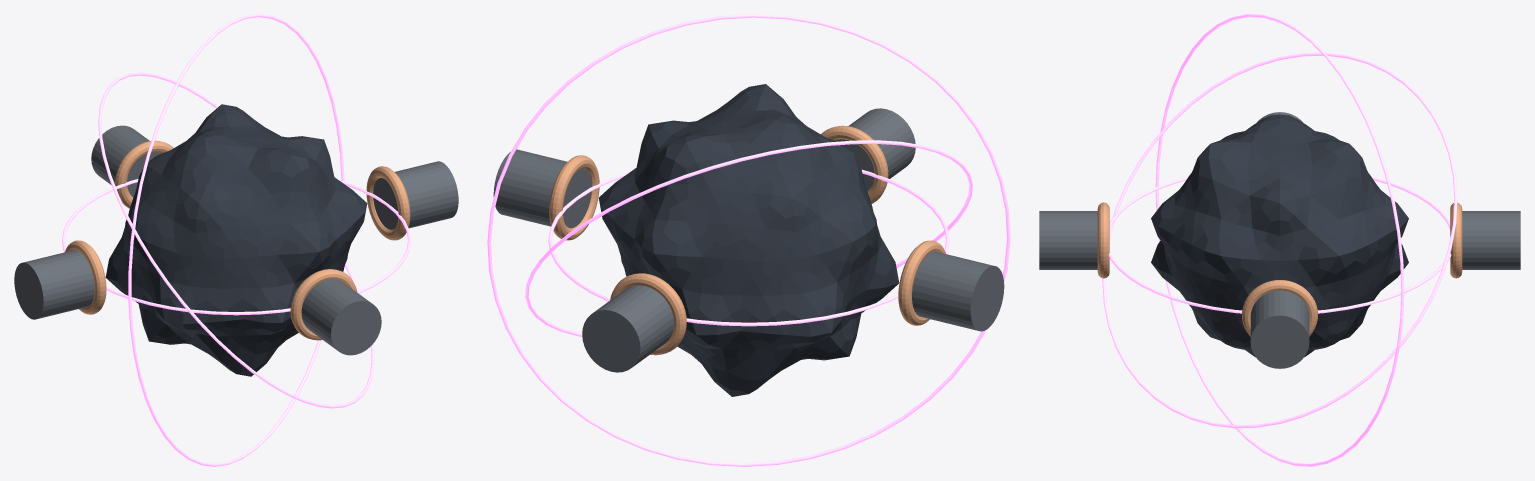
Rendered from project_ferrofluid_orb.glb.
3 renders of one model, left to right at view 1: azimuth 30°, elevation 25°; view 2: azimuth 150°, elevation 25°; view 3: azimuth 270°, elevation 25°, orthographic. The views are drawn at different scales.
Visible parts, largest first — view 1: Ferrofluid_Orb, Magnetic_Pole_3, Magnetic_Pole_4, Magnetic_Pole_1, Magnetic_Field_Ring_3, Magnetic_Field_Ring_2, Magnetic_Pole_2, Magnetic_Field_Ring_1, Copper_Coil_1, Copper_Coil_4, Copper_Coil_3, Copper_Coil_2; view 2: Ferrofluid_Orb, Magnetic_Field_Ring_3, Magnetic_Pole_3, Magnetic_Pole_2, Magnetic_Pole_1, Magnetic_Field_Ring_2, Magnetic_Pole_4, Magnetic_Field_Ring_1, Copper_Coil_1, Copper_Coil_2, Copper_Coil_3, Copper_Coil_4; view 3: Ferrofluid_Orb, Magnetic_Field_Ring_2, Magnetic_Pole_1, Magnetic_Field_Ring_3, Magnetic_Pole_2, Magnetic_Pole_4, Magnetic_Field_Ring_1, Copper_Coil_1, Copper_Coil_4, Copper_Coil_2.
Part boxes in pixels (x1,y1,x2,y2): Ferrofluid_Orb: (105, 104, 367, 376); Magnetic_Pole_3: (14, 250, 94, 319); Magnetic_Pole_4: (301, 279, 381, 355); Magnetic_Pole_1: (373, 161, 458, 229); Magnetic_Field_Ring_3: (128, 14, 344, 466); Magnetic_Field_Ring_2: (98, 72, 374, 408); Magnetic_Pole_2: (91, 125, 161, 197); Magnetic_Field_Ring_1: (62, 179, 410, 315); Copper_Coil_1: (366, 166, 410, 240); Copper_Coil_4: (290, 269, 357, 340); Copper_Coil_3: (65, 240, 106, 314); Copper_Coil_2: (115, 140, 173, 208); Ferrofluid_Orb: (598, 84, 899, 396); Magnetic_Field_Ring_3: (487, 14, 1010, 466); Magnetic_Pole_3: (912, 251, 1004, 331); Magnetic_Pole_2: (582, 285, 674, 372); Magnetic_Pole_1: (493, 149, 591, 228); Magnetic_Field_Ring_2: (525, 140, 972, 336); Magnetic_Pole_4: (835, 108, 915, 191); Magnetic_Field_Ring_1: (548, 169, 949, 326); Copper_Coil_1: (549, 155, 599, 240); Copper_Coil_2: (610, 273, 686, 355); Copper_Coil_3: (898, 240, 945, 325); Copper_Coil_4: (821, 125, 888, 203); Ferrofluid_Orb: (1151, 114, 1408, 357); Magnetic_Field_Ring_2: (1102, 52, 1457, 428); Magnetic_Pole_1: (1250, 290, 1309, 368); Magnetic_Field_Ring_3: (1155, 14, 1404, 466); Magnetic_Pole_2: (1462, 211, 1520, 269); Magnetic_Pole_4: (1039, 211, 1097, 269); Magnetic_Field_Ring_1: (1108, 176, 1451, 313); Copper_Coil_1: (1242, 280, 1317, 336); Copper_Coil_4: (1097, 202, 1109, 278); Copper_Coil_2: (1450, 203, 1462, 278).
Bounding box in the file's own units: 3.6 × 3.41 × 3.6.
